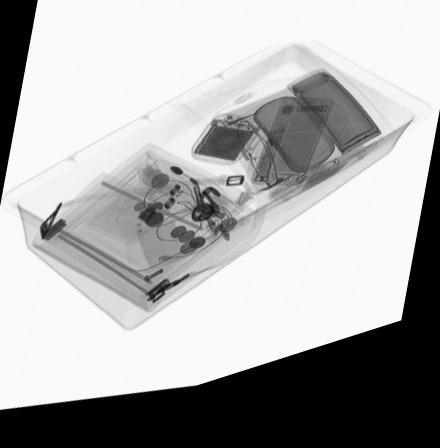Powerbank: (190, 130, 269, 178)
